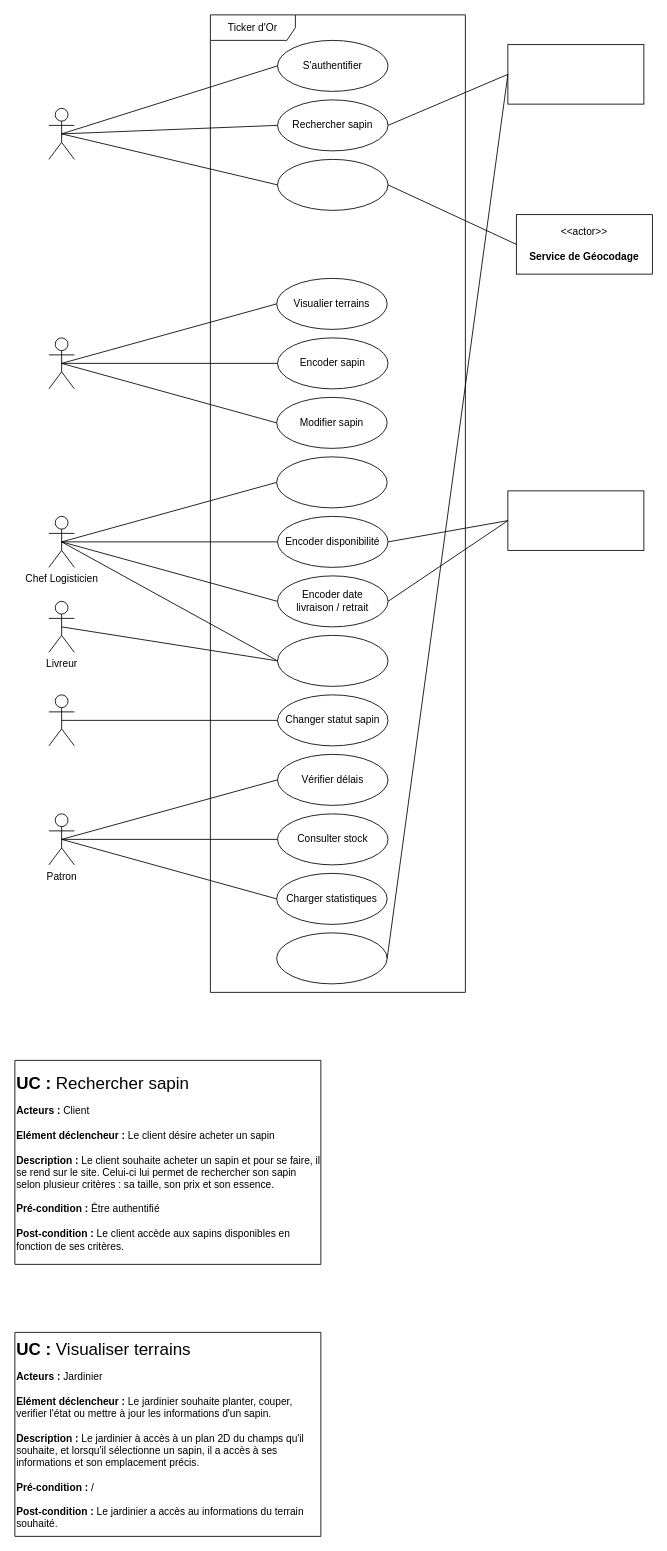
This 667x1551 diagram has some shape labels left out. The shapes that lost their labels are listed below. From the top down, each one's centre as x and y in pixels, then its label:
[575,74]: <<actor>> Easypay
[61,133]: Client
[332,184]: Réserver sapin
[61,363]: Jardinier
[331,482]: Consulter réservation
[575,520]: <<actor>> E-mail Gateway
[332,660]: Indiquer statut livraison
[61,720]: Vendeur
[331,958]: Charger statut transaction
